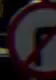Don't turn right: (12, 13, 55, 64)
